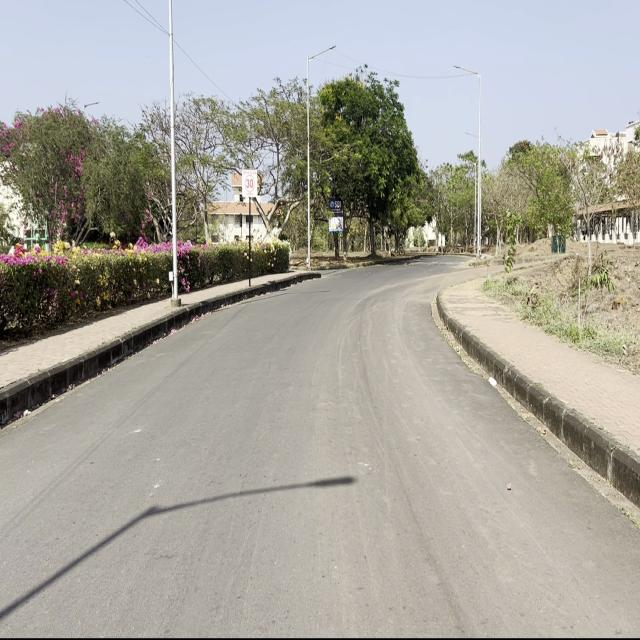Road: (3, 253, 638, 632)
